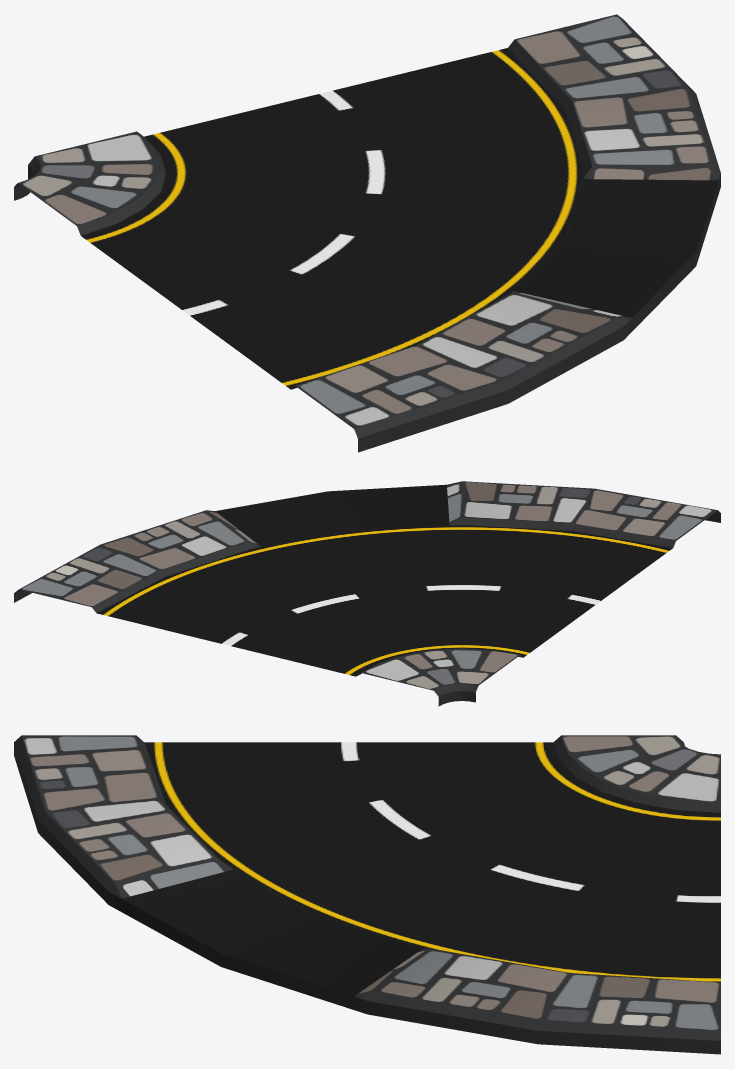
The model's file is Road_Corner_1Driveway.fbx.
The picture shows the model from 3 angles, top to bottom: view 1: azimuth 30°, elevation 25°; view 2: azimuth 150°, elevation 25°; view 3: azimuth 270°, elevation 25°; orthographic projection. The views are drawn at different scales.
Visible parts, largest first — view 1: Road_Corner_1Driveway; view 2: Road_Corner_1Driveway; view 3: Road_Corner_1Driveway.
Part boxes in pixels (box(x1,y1,x2,y2)): Road_Corner_1Driveway: box(14, 14, 720, 452); Road_Corner_1Driveway: box(14, 481, 720, 706); Road_Corner_1Driveway: box(14, 735, 720, 1054).
Bounding box in the file's own units: 950 × 30 × 950.
